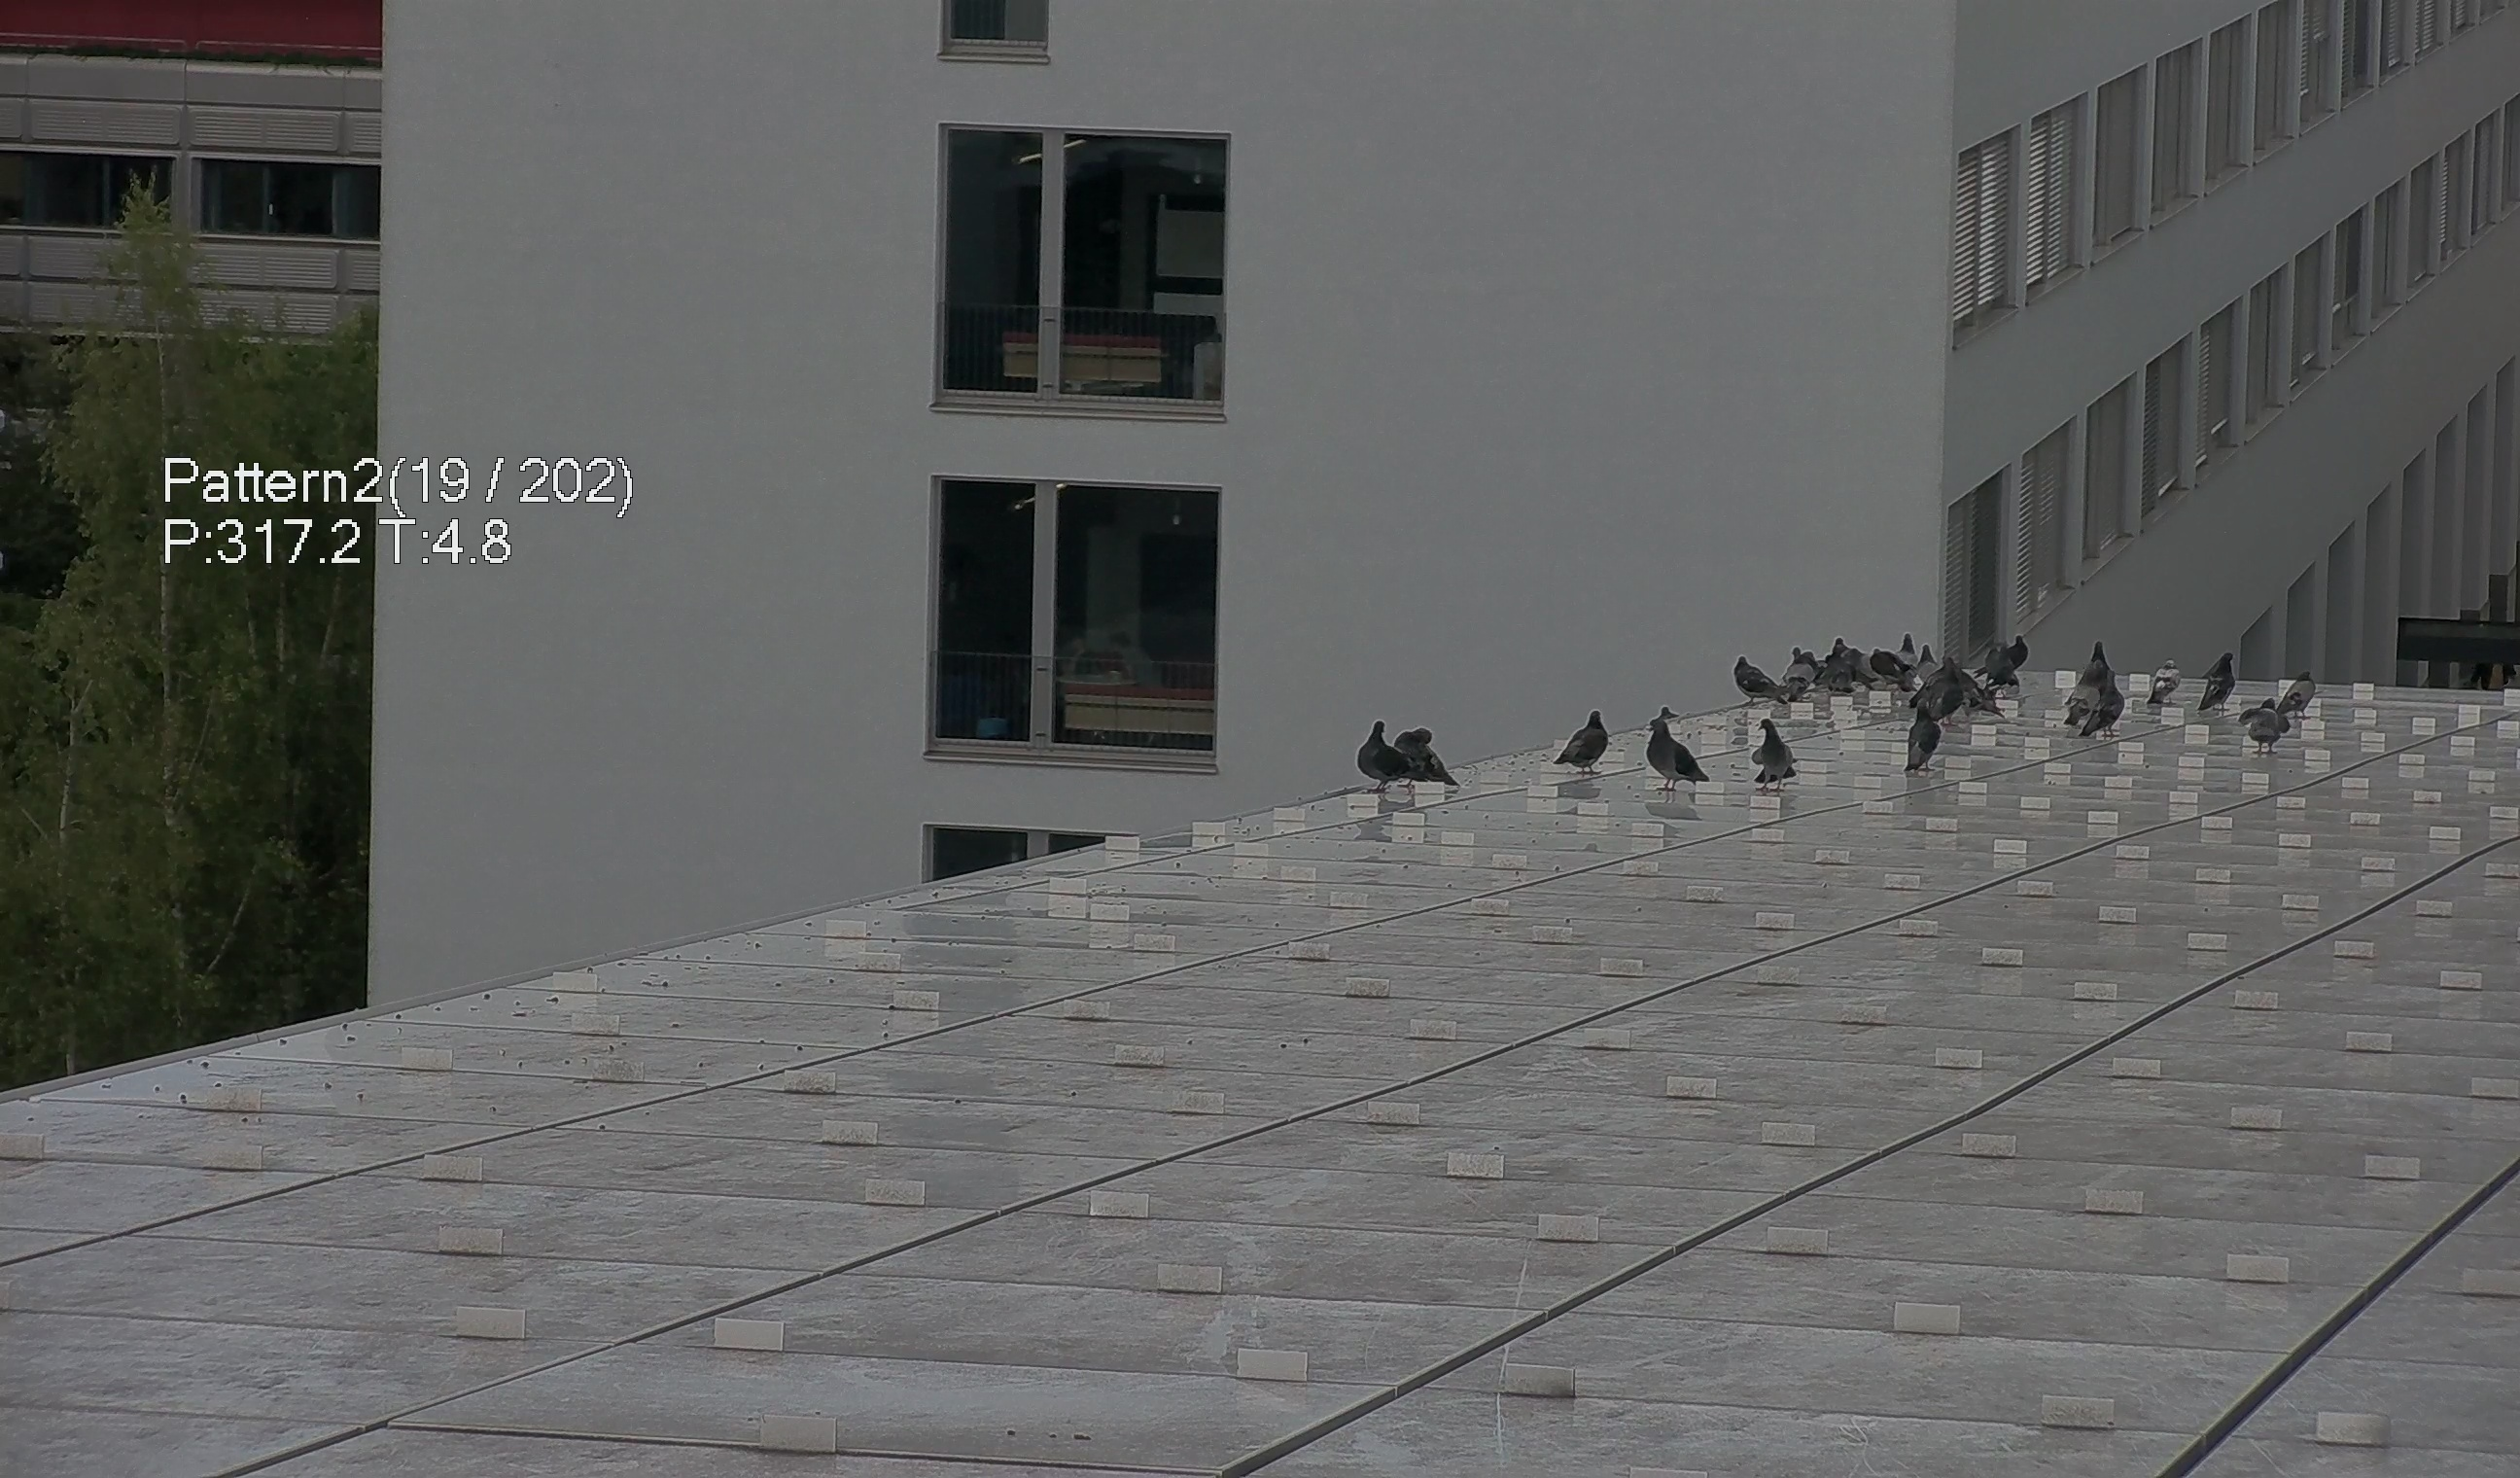Pigeon: (1637, 702, 1715, 797), (1351, 706, 1423, 801), (1748, 706, 1815, 799), (1548, 699, 1614, 783), (1403, 714, 1454, 795), (1901, 697, 1945, 781), (2063, 646, 2110, 723), (2084, 667, 2131, 744), (2230, 699, 2293, 755), (2270, 662, 2321, 728), (1732, 649, 1787, 707), (2200, 648, 2239, 714), (1869, 648, 1919, 690), (1984, 640, 2021, 691), (1841, 644, 1882, 688), (1787, 648, 1818, 699), (1933, 677, 1966, 725), (1917, 639, 1940, 686), (1892, 630, 1920, 667), (2154, 660, 2177, 704), (2007, 630, 2029, 672)
